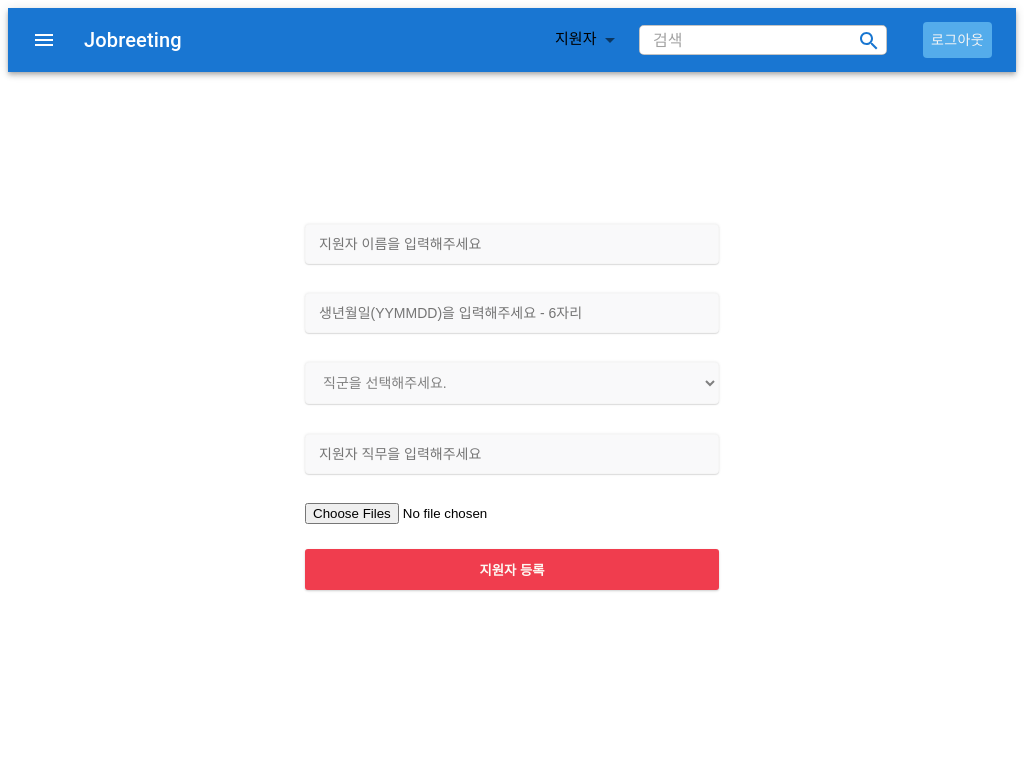
Test: 라우팅 메뉴 테스트 › 업로드 페이지에서 메뉴버튼 클릭 시 변경된 메뉴 모달이 정상적으로 등장하는지 테스트
The image size is (1024, 768).
What coordinates should you click on to do the following:
click the button named "menu"
I would click on:
 (44, 40)
Its box is 20,16 -> 68,64.
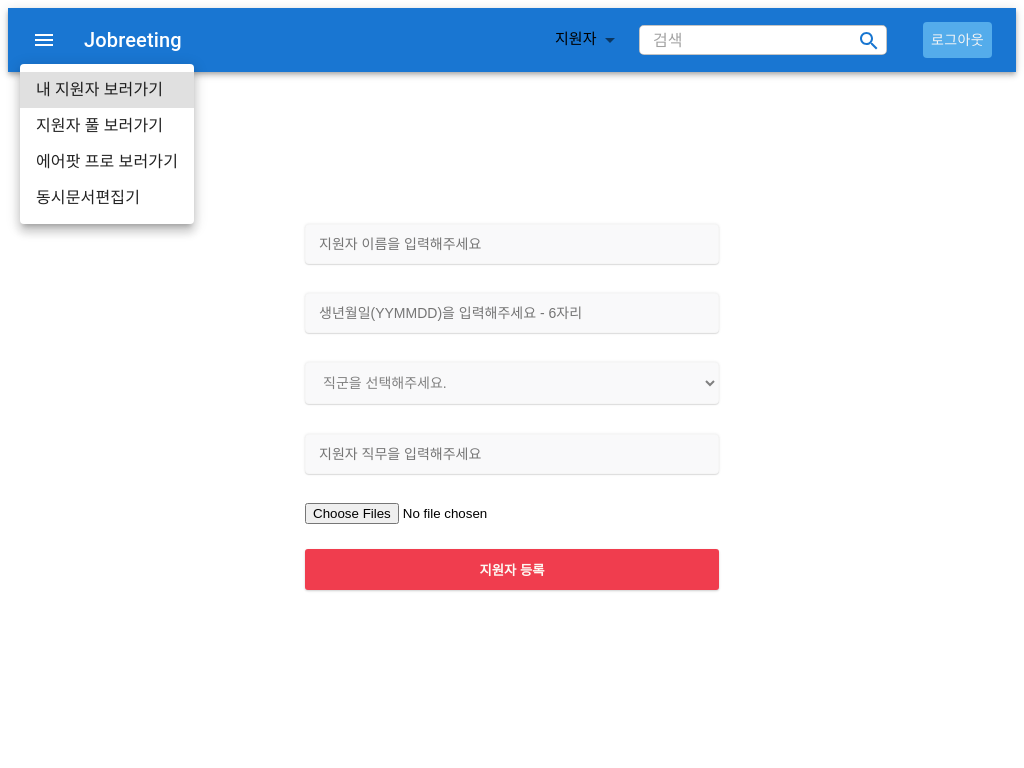
Expected: the number of menu items "내 지원자 보러가기" is 1, 20,72 -> 194,108
Expected: the number of menu items "지원자 풀 보러가기" is 1, 36,116 -> 163,135
